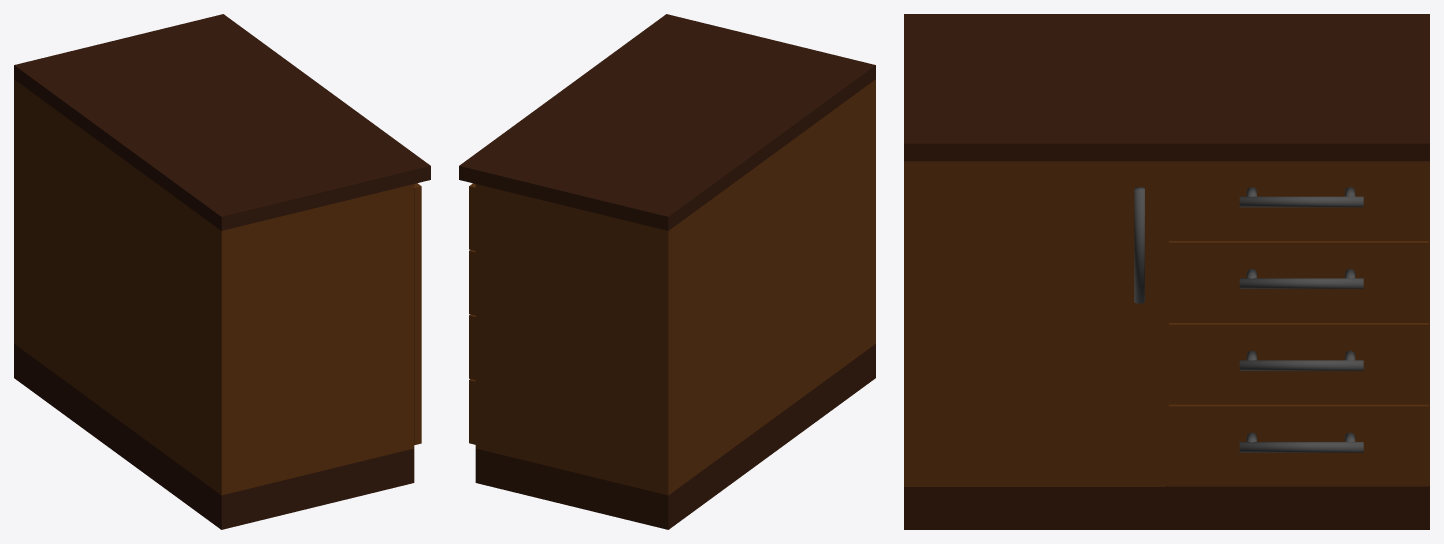
File: mesa-cocina-1.fbx
3 renders of one model, left to right at view 1: azimuth 30°, elevation 25°; view 2: azimuth 150°, elevation 25°; view 3: azimuth 270°, elevation 25°, orthographic. The views are drawn at different scales.
Parts seen in each view (by area): view 1: Base, Puerta; view 2: Base; view 3: Base, Puerta, Cajon4, Cajon3, Cajon2, Cajon1.
Boxes of the visible parts, <box> form: Base: <box>14,14,430,529</box>; Puerta: <box>414,183,421,444</box>; Base: <box>459,14,875,529</box>; Base: <box>904,14,1429,529</box>; Puerta: <box>904,161,1165,486</box>; Cajon4: <box>1169,404,1428,486</box>; Cajon3: <box>1169,323,1428,404</box>; Cajon2: <box>1169,241,1428,322</box>; Cajon1: <box>1169,161,1428,240</box>.
Size of the model in its own units: 62.85 by 85.53 by 103.
